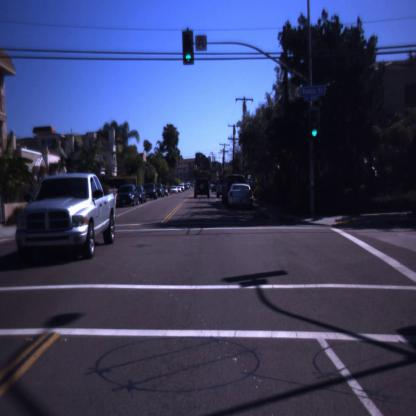trafficlight: (181, 28, 194, 67)
